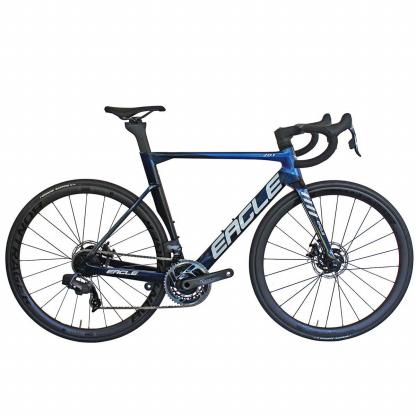Bike: (6, 102, 416, 345)
